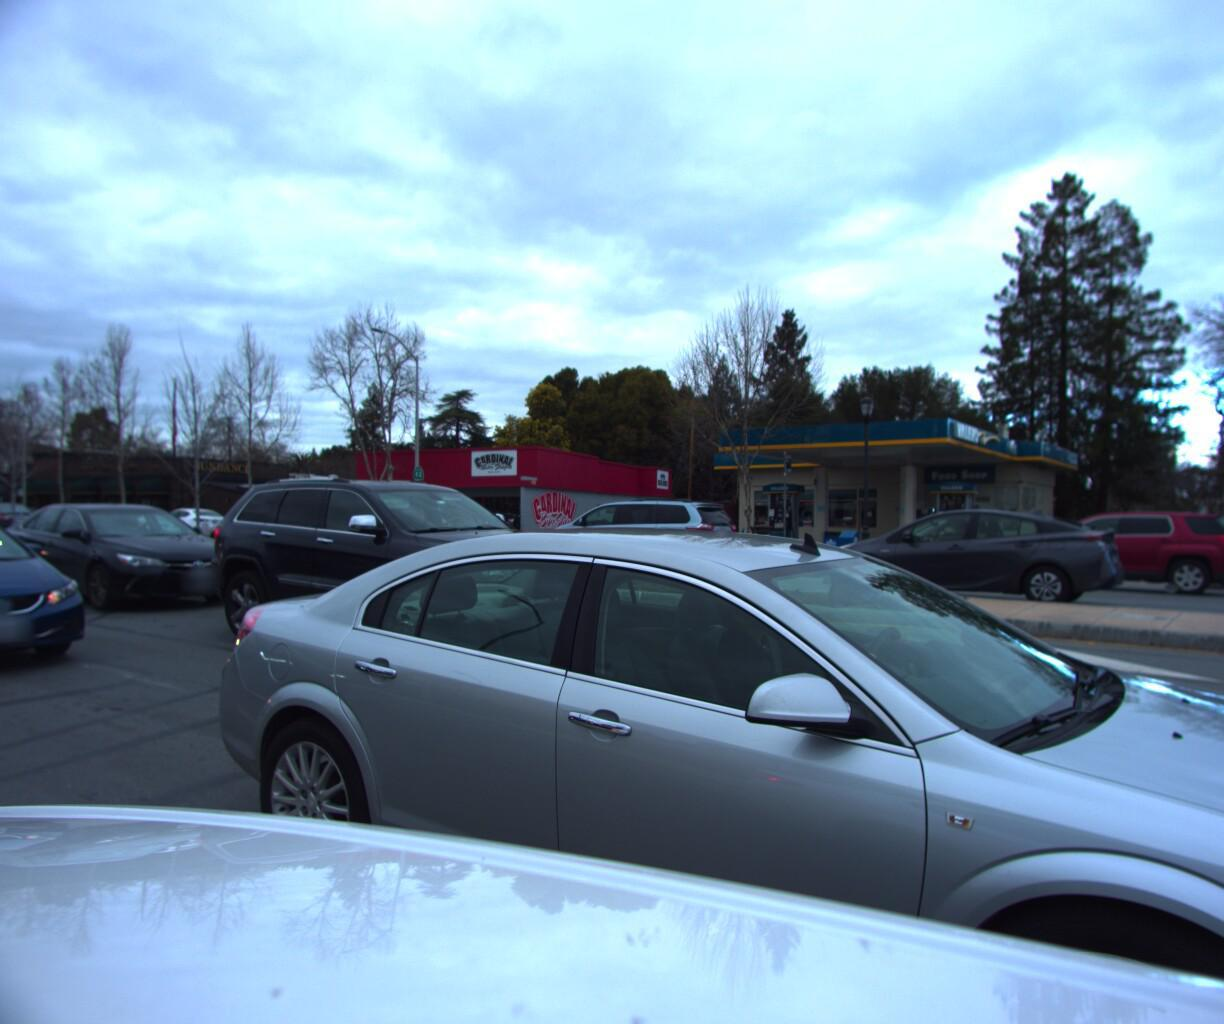car: (155, 526, 1224, 1024), (177, 459, 625, 680), (0, 481, 271, 621), (804, 503, 1133, 613), (0, 507, 105, 698), (1001, 507, 1224, 592), (534, 500, 742, 577), (195, 504, 341, 560), (90, 510, 190, 548), (147, 513, 231, 546), (0, 506, 47, 542)
